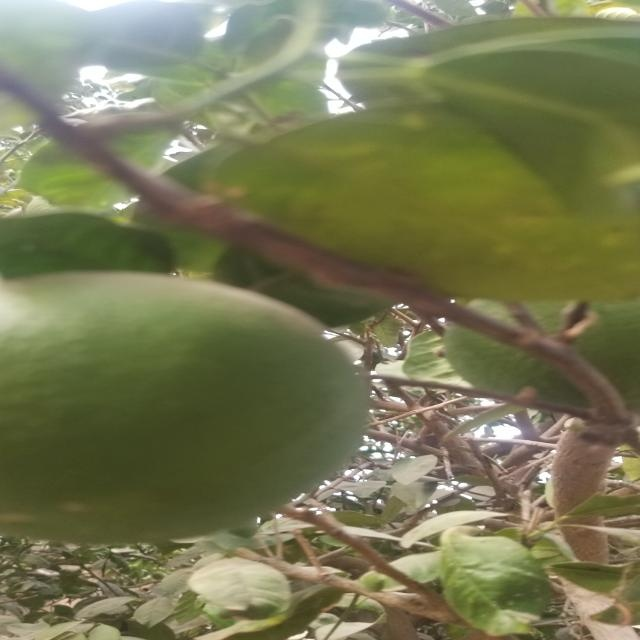agrume: (0, 278, 382, 532)
